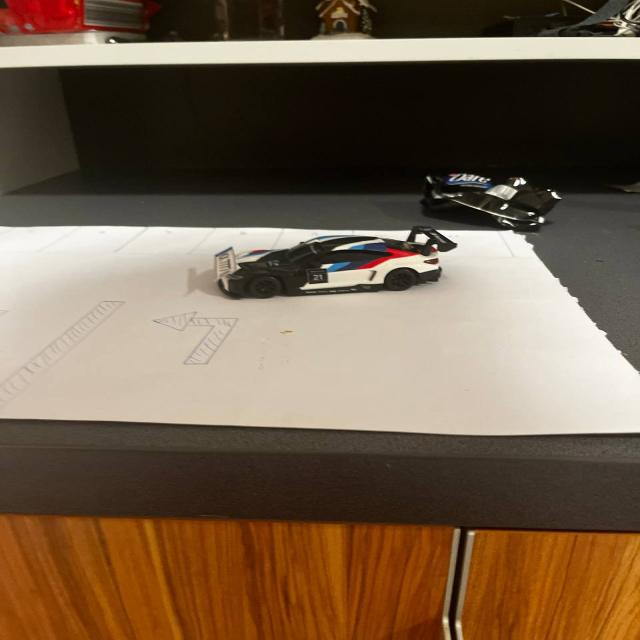cars: (190, 227, 468, 309)
